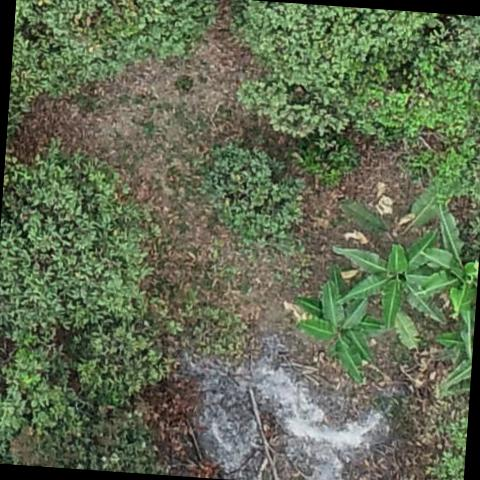Banana-plant: (334, 233, 456, 349), (287, 266, 388, 368), (414, 227, 480, 341)
